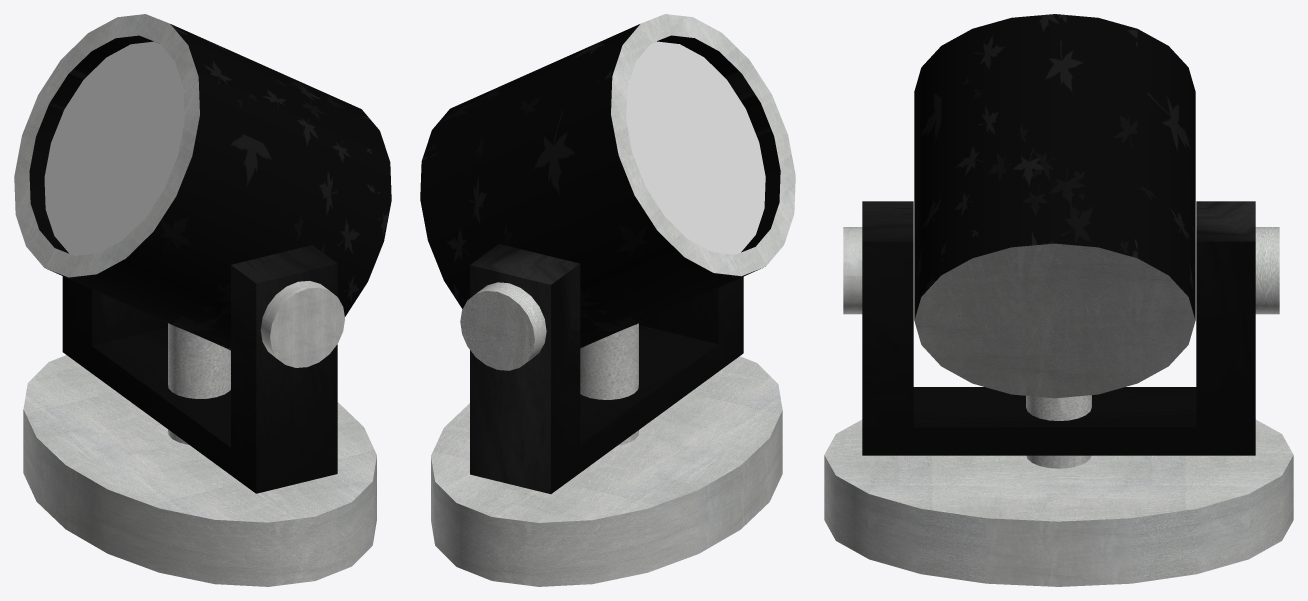
The model's file is spotlight2.fbx.
3 renders of one model, left to right at view 1: azimuth 30°, elevation 25°; view 2: azimuth 150°, elevation 25°; view 3: azimuth 270°, elevation 25°, orthographic. The views are drawn at different scales.
Parts seen in each view (by area): view 1: pCylinder2, pCylinder1, pCube1, pCylinder5, pCylinder3; view 2: pCylinder2, pCylinder1, pCube1, pCylinder4, pCylinder3; view 3: pCylinder2, pCylinder1, pCube1, pCylinder4, pCylinder3, pCylinder5.
Boxes of the visible parts, x1,y1,x2,y2 form: pCylinder2: [14, 14, 391, 350]; pCylinder1: [23, 355, 376, 586]; pCube1: [62, 245, 337, 493]; pCylinder5: [260, 281, 344, 367]; pCylinder3: [168, 323, 230, 444]; pCylinder2: [420, 14, 795, 348]; pCylinder1: [431, 356, 782, 586]; pCube1: [470, 244, 743, 494]; pCylinder4: [460, 282, 546, 370]; pCylinder3: [580, 323, 638, 445]; pCylinder2: [914, 14, 1195, 398]; pCylinder1: [824, 419, 1293, 586]; pCube1: [862, 201, 1255, 455]; pCylinder4: [1255, 227, 1279, 314]; pCylinder3: [1026, 395, 1091, 468]; pCylinder5: [843, 227, 862, 314].
Bounding box in the file's own units: 24.77 × 35.95 × 31.19.
